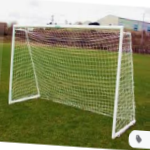goals: (7, 22, 136, 137)
